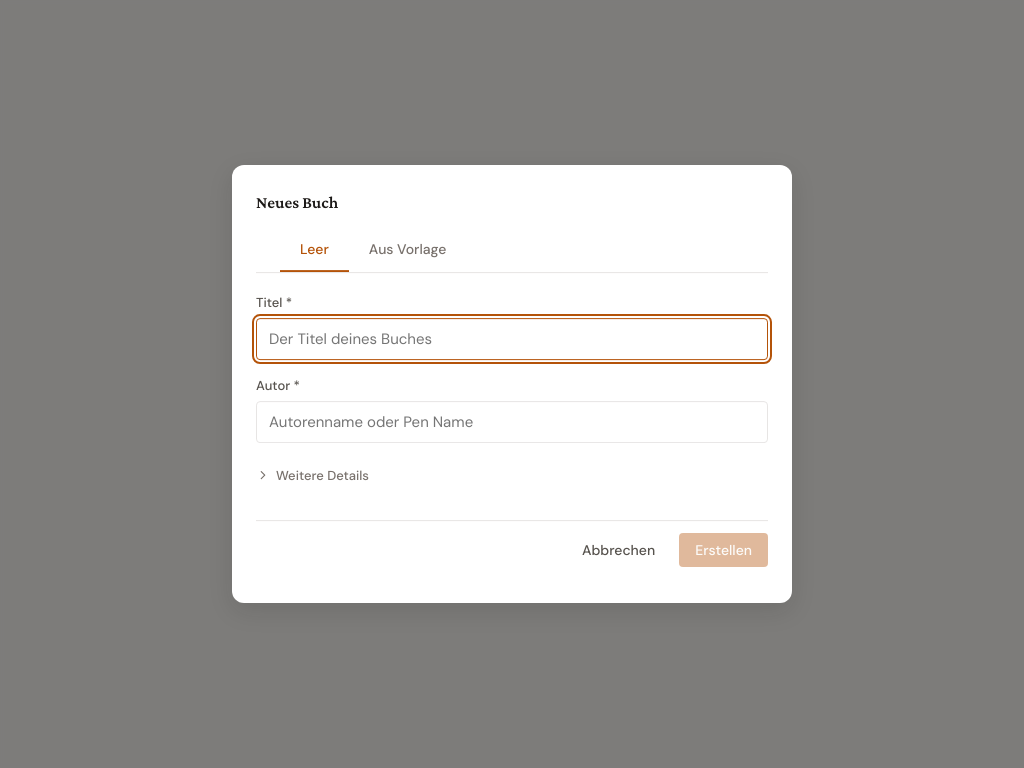
CreateBookModal › switching to template mode fetches and shows templates
Press the mouse on the tab with test id "create-book-mode-template" at (408, 250), box [349,228,466,272]
Press the mouse on the tab with test id "create-book-mode-template" at (408, 250), box [349,228,466,272]
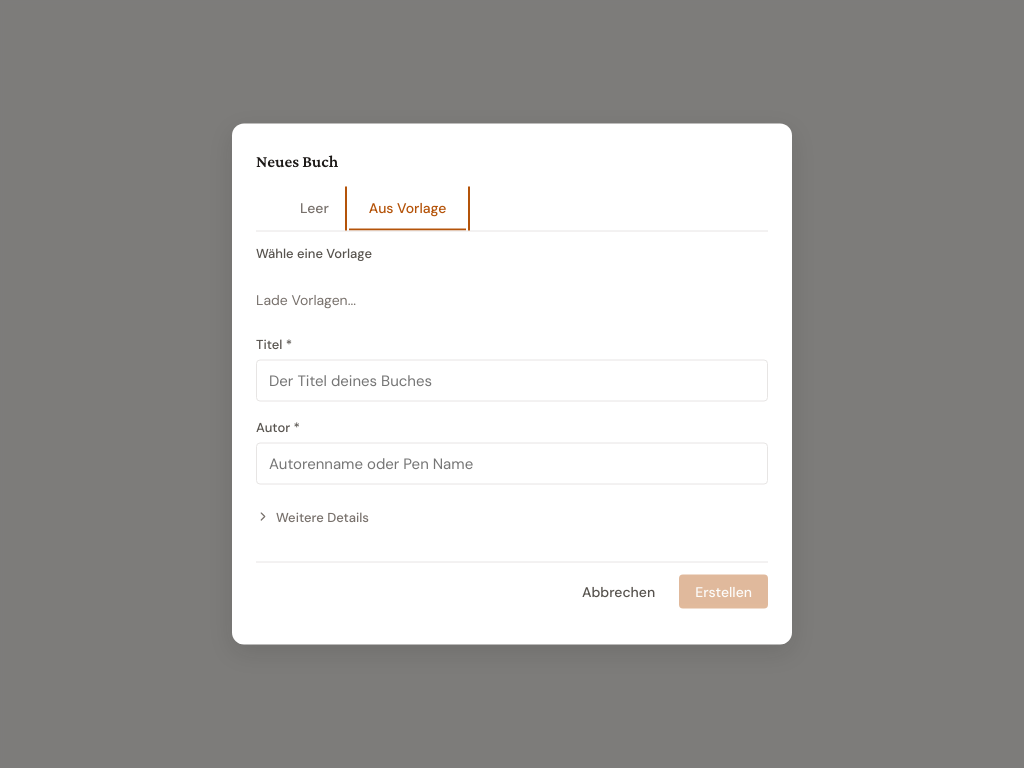
Click the tab with test id "create-book-mode-template" at (408, 209), box [349,187,466,231]
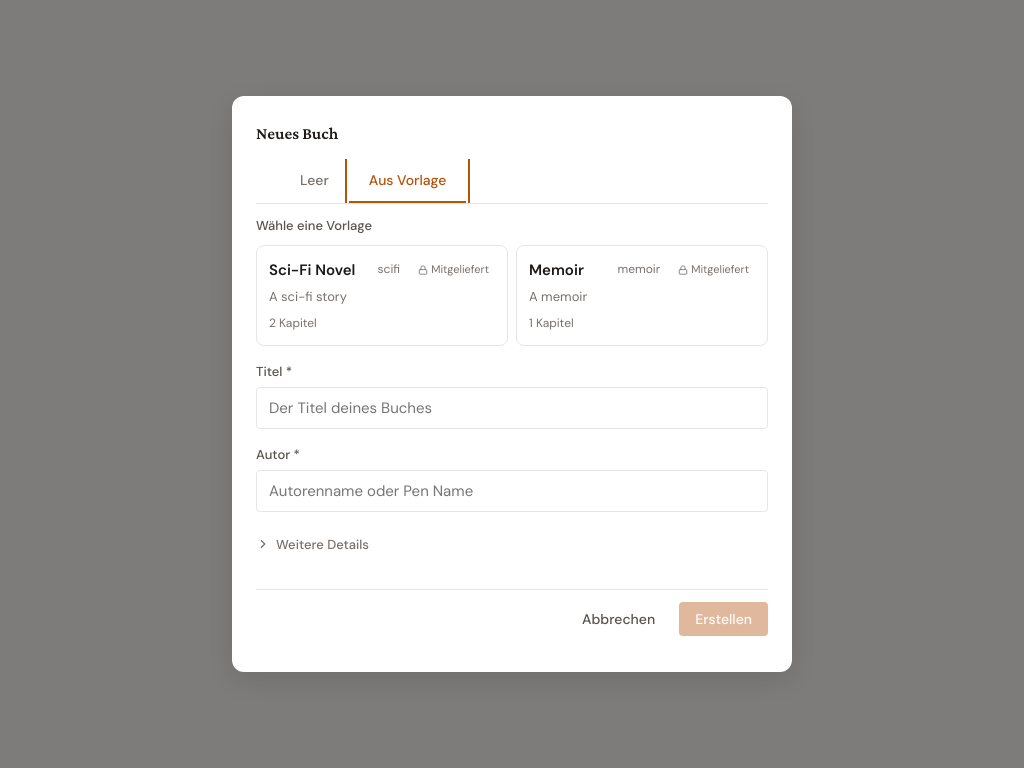
expect the text "Sci-Fi Novel" is shown: met, box [269,258,355,282]
expect the text "Memoir" is shown: met, box [529,258,584,282]
